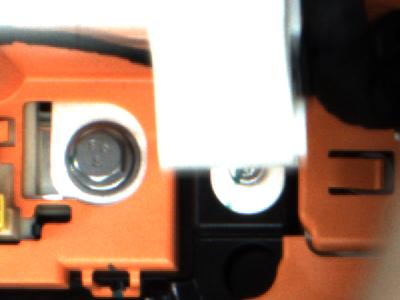nut_b: (59, 122, 143, 195)
